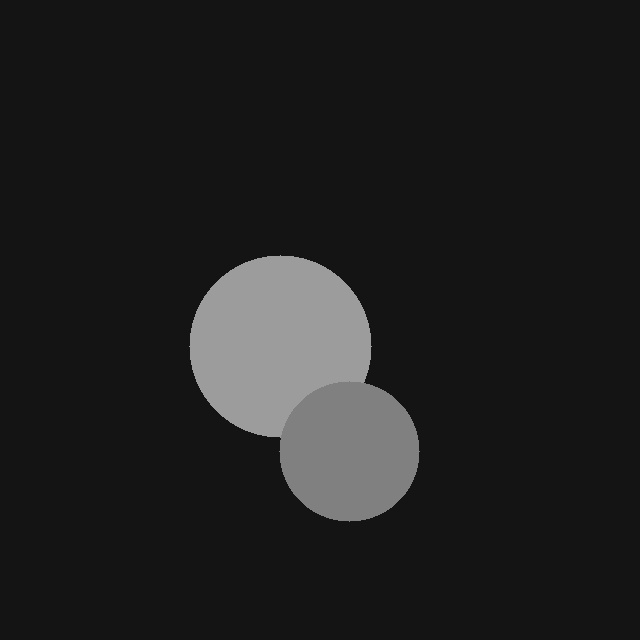circle: (189, 255, 371, 437), (279, 381, 419, 521), (268, 326, 344, 402)
